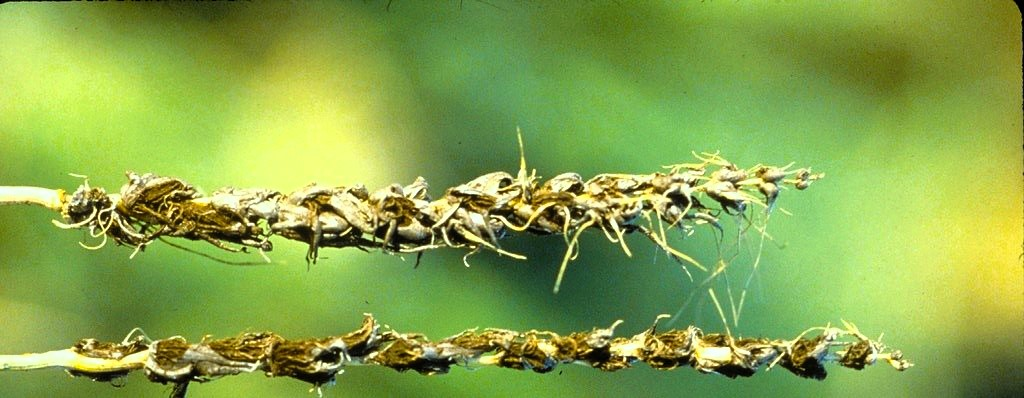Wheat Loose Smut: (71, 163, 800, 293)
